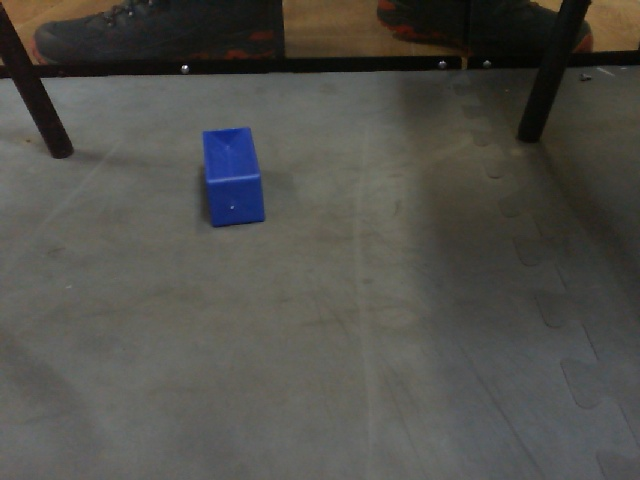BlueSample: (198, 123, 268, 231)
